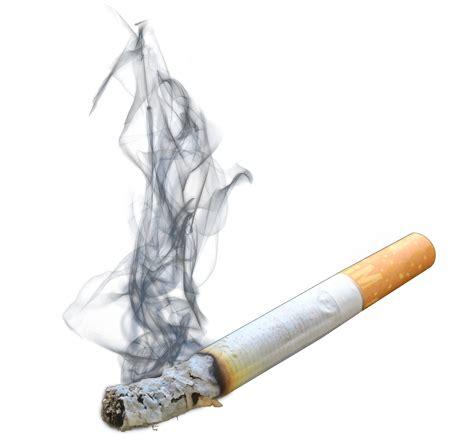cigarette: (100, 231, 438, 431)
